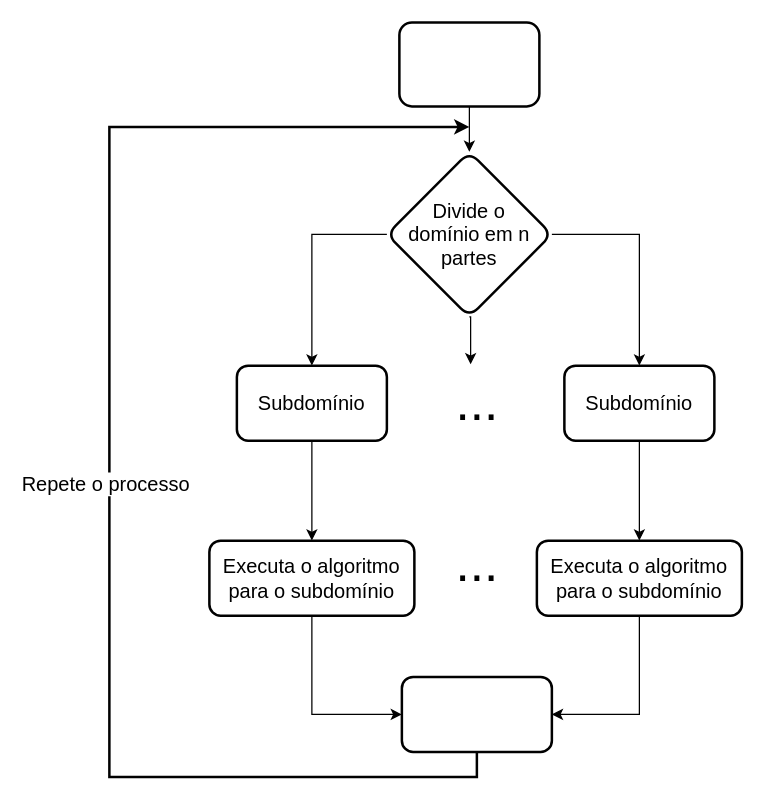
Some shapes in this 765 by 810 pixel diagram are drawn without their labels. The centre of each missing label's shape, as x and y in pixels:
Problema: (x=469, y=63)
Seleciona o melhor domínio: (x=476, y=713)
